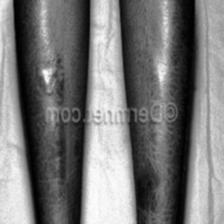Non-Cancerous Skin Condition: (26, 0, 78, 105), (142, 134, 176, 224), (36, 128, 66, 192), (36, 62, 62, 96)
